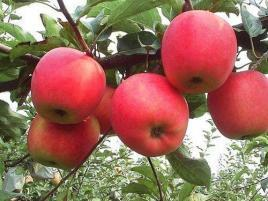apple: (158, 8, 238, 97), (109, 73, 190, 158), (28, 45, 107, 127), (25, 112, 100, 170), (205, 71, 267, 141)
